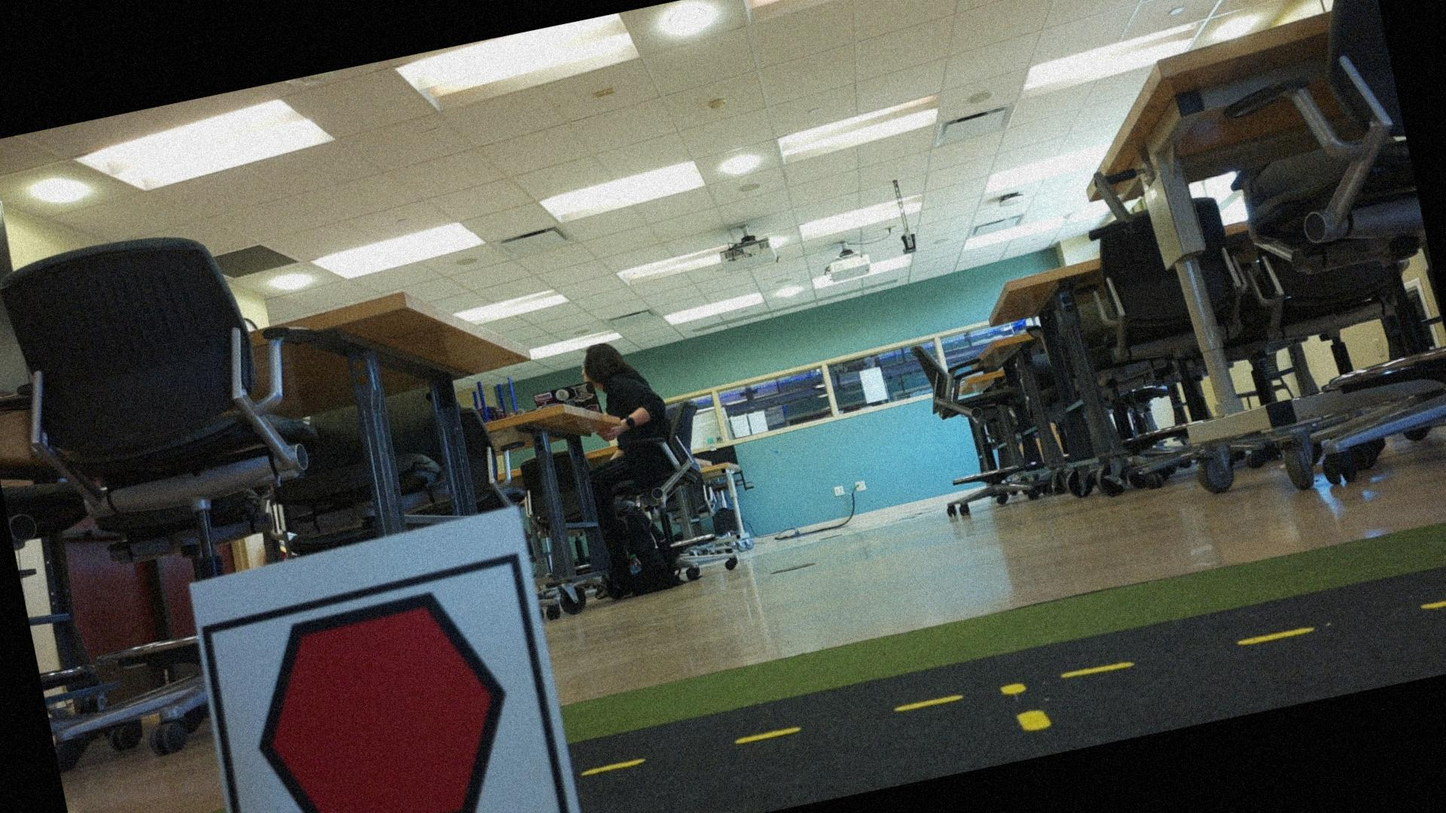stop: (222, 568, 546, 812)
yellowline: (587, 580, 1445, 782), (994, 673, 1054, 741)
